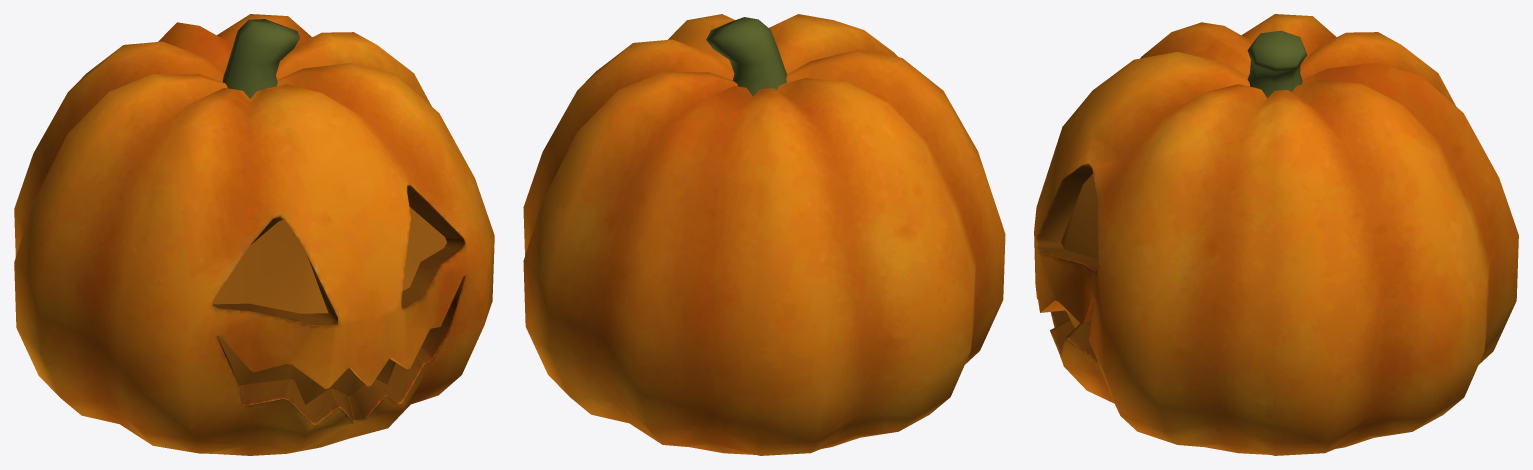
The model's file is Pumpkin.glb.
3 renders of one model, left to right at view 1: azimuth 30°, elevation 25°; view 2: azimuth 150°, elevation 25°; view 3: azimuth 270°, elevation 25°, orthographic.
Visible parts, largest first — view 1: PumpkinHead; view 2: PumpkinHead; view 3: PumpkinHead.
Part boxes in pixels (bbox=[...]): PumpkinHead: bbox=[14, 14, 494, 455]; PumpkinHead: bbox=[523, 14, 1005, 455]; PumpkinHead: bbox=[1034, 14, 1518, 455].
Size of the model in its own units: 0.4448 by 0.371 by 0.4419.
Materials: 1 (1 with a texture image).
